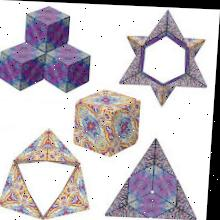cube: (74, 87, 143, 156), (45, 43, 93, 92), (0, 41, 47, 91), (22, 5, 69, 52)
